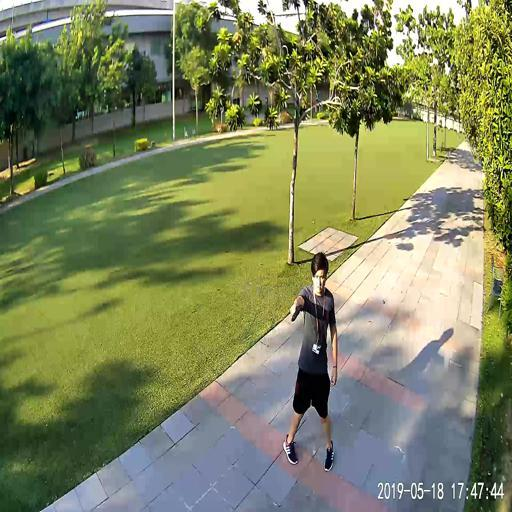Handgun: (290, 303, 299, 320)
